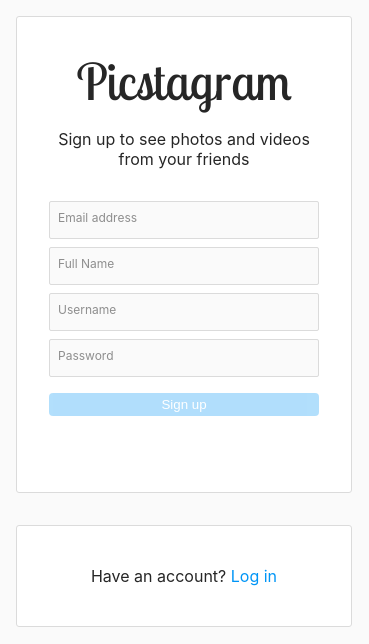
Test: Signup flow › user can show/hide password
In the password field labelled "Password": (184, 358) 49,339 -> 319,377, type "s3cr3tp@ss!"
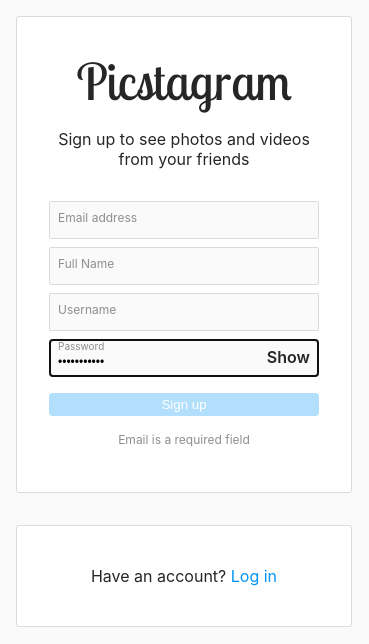
Click the text "Show": (289, 357) 267,347 -> 310,367
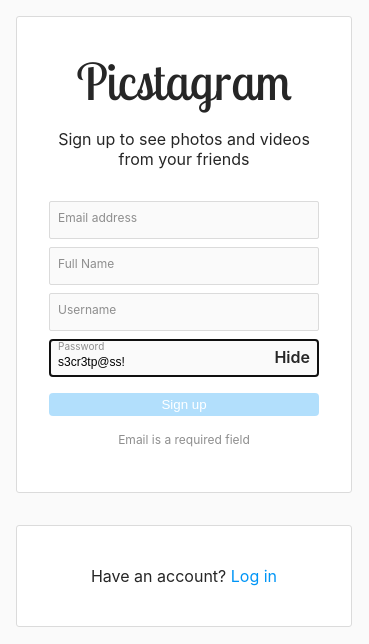
Now the field labelled "Password Hide" shows its text, box 49,339 -> 319,377
Click the text "Hide": (292, 357) 274,347 -> 310,367
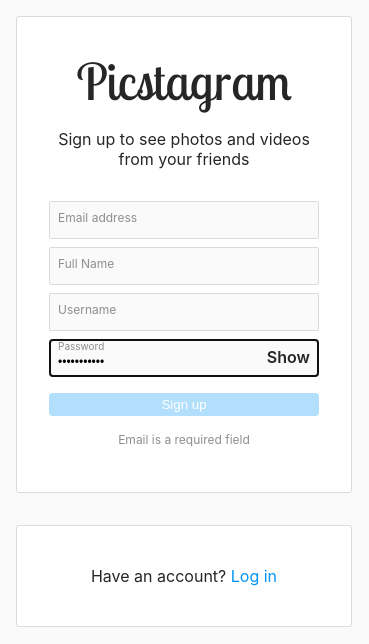
Now the password field labelled "Password Show" hides its text, box 49,339 -> 319,377
